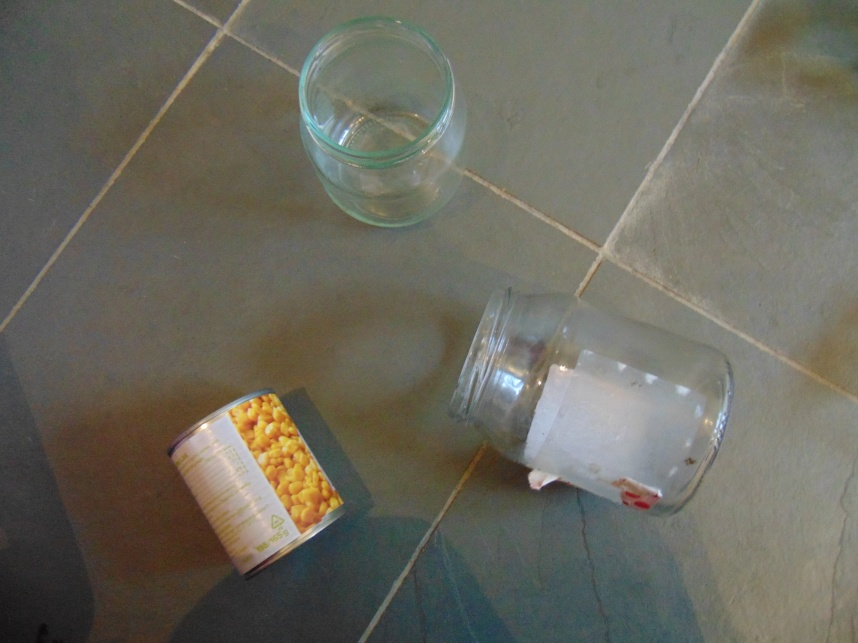glass_bottle: (446, 286, 735, 518), (297, 15, 469, 229)
metal_can: (168, 387, 349, 579)
